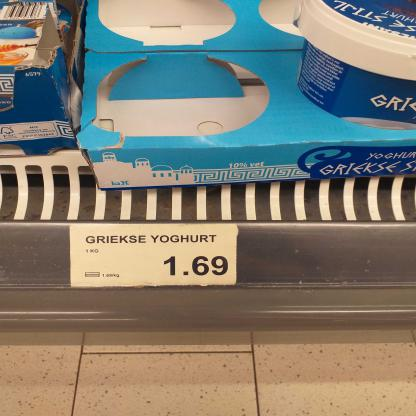prtg: (70, 225, 237, 288)
